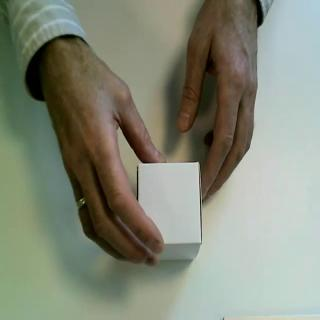apodorm5mg: (136, 160, 204, 264)
